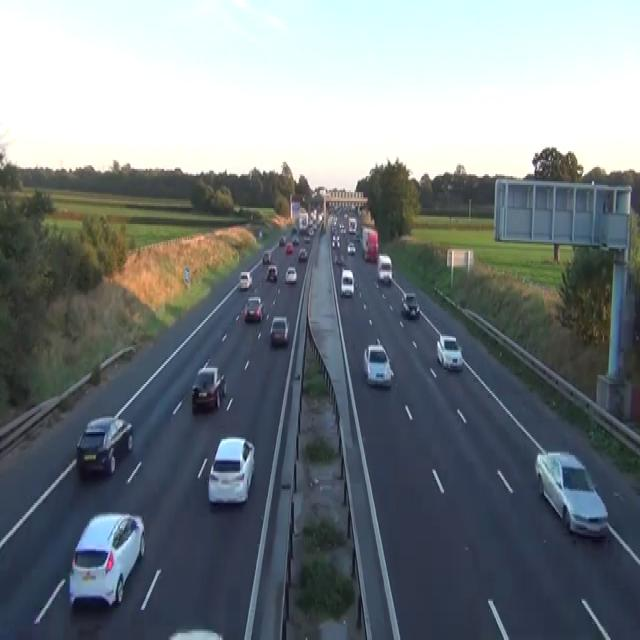Car: (68, 510, 145, 608), (534, 450, 608, 540), (76, 414, 133, 478), (208, 435, 255, 505), (191, 361, 227, 411), (66, 608, 126, 638), (363, 342, 393, 388), (436, 334, 463, 370), (269, 315, 289, 345), (165, 628, 225, 638), (244, 295, 264, 322), (401, 292, 420, 316), (377, 254, 392, 283), (340, 268, 354, 297), (239, 270, 252, 290), (284, 265, 297, 283), (365, 244, 378, 262), (266, 263, 278, 281), (297, 247, 307, 261), (334, 252, 344, 265), (331, 235, 340, 249), (347, 240, 355, 254), (262, 251, 271, 263), (307, 224, 314, 236), (285, 242, 293, 252), (339, 222, 345, 235), (279, 235, 286, 245), (330, 222, 336, 233), (292, 237, 299, 246), (304, 234, 310, 243), (355, 231, 361, 240), (291, 226, 297, 233), (259, 230, 262, 238)
Truck: (361, 226, 378, 263), (298, 212, 308, 231), (348, 217, 356, 233)
